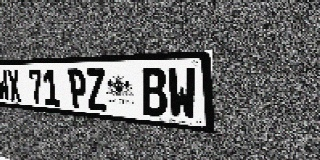1: (41, 69, 60, 106)
7: (28, 69, 45, 105)
B: (140, 67, 168, 117)
P: (67, 69, 88, 109)
W: (167, 67, 197, 120), (0, 70, 10, 101)
X: (6, 69, 22, 103)
Z: (85, 68, 107, 111)
